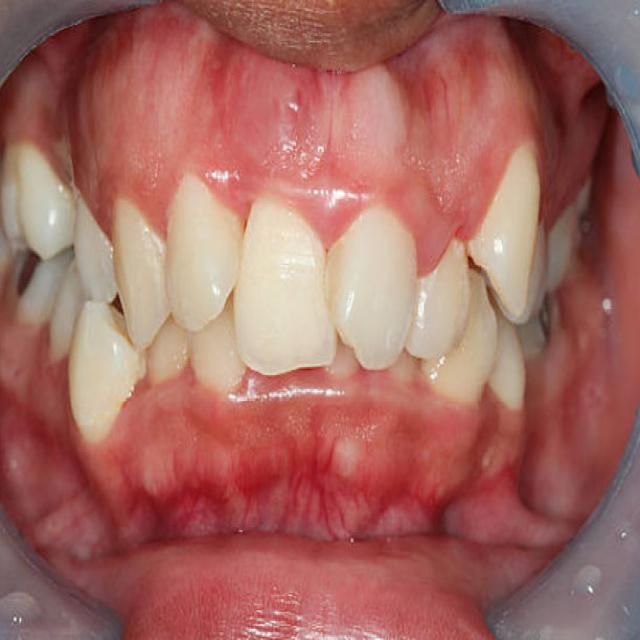caries: (0, 232, 51, 320), (531, 283, 572, 373)
